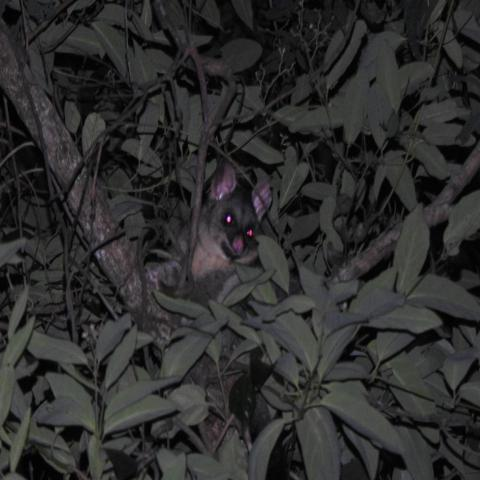small_animal: (145, 158, 274, 308)
